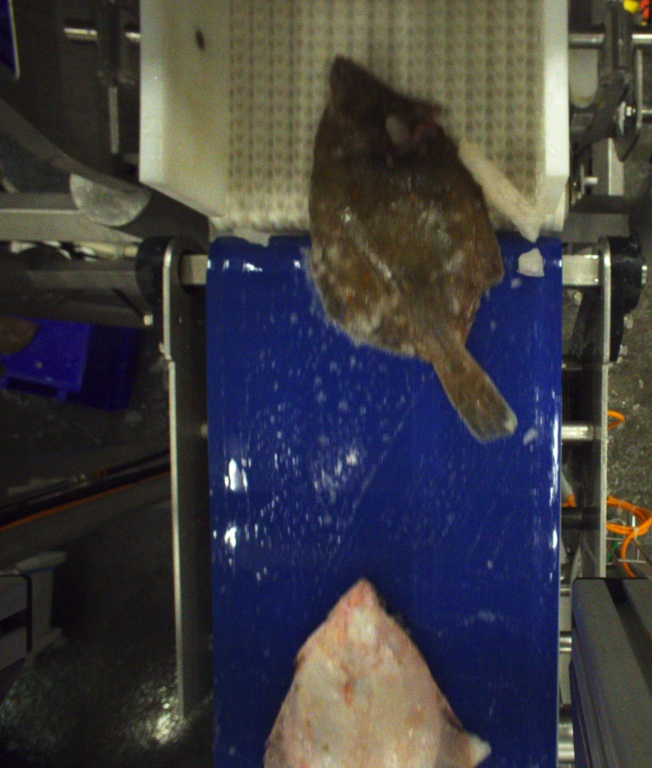PLE: (302, 55, 522, 448)
